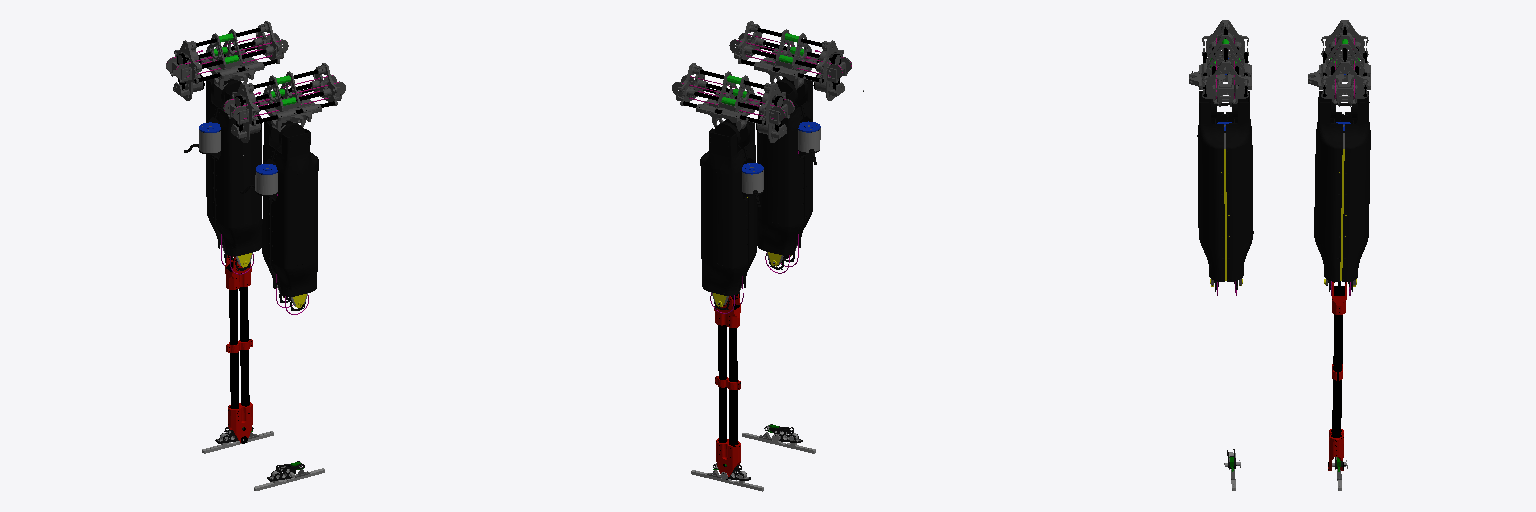
robot.urdf — mercury:
<?xml version="1.0" ?>
<robot name="mercury" xmlns:xacro="http://ros.org/wiki/xacro">
  <!-- ===== DUMMY 'BASE' LINK ==== -->
  <link name="body">
    <inertial>
       <mass value="8.0"/> 
      <!--<mass value="9.5"/>-->
      <!-- <origin xyz="0.00347 0.0 0.22524"/> -->
      <origin xyz="-0.02 0.0 0.22524"/>
      <inertia ixx="0.3006167" ixy="0" ixz="0" iyy="0.23837" iyz="0" izz="0.09690467"/>
    </inertial>
<!--      <visual>
      <geometry>
          <mesh filename="Updated_torso.3ds" scale="0.001 0.001 0.001"/>
      </geometry>
      <origin rpy="3.14159 0 1.5708" xyz="-.415 -0.21 -0.07"/>
    </visual> -->
    <visual>
      <geometry>
         <mesh filename="meshes/color_torso.dae" scale="0.001 0.001 0.001"/>
      </geometry>
      <origin rpy="3.14159 0 1.5708" xyz="-0.165 -0.21 -0.033"/>
    </visual>
  </link>
  <!-- IMU -->
  <joint name="fixed_imu" type="fixed">
    <axis xyz="0 1 0"/>
    <origin rpy="0 0 0" xyz="-0.02 -0.07 0.22"/>
    <parent link="body"/>
    <child link="imu" />
  </joint>
  <link name="imu">
    <inertial>
      <mass value="0.0000000000001"/>
      <origin xyz="0.0 0.0 0.0"/>
      <inertia ixx="0.0000000001" ixy="0" ixz="0.0" iyy="0.000000001" iyz="0" izz="0.00000000001"/>
    </inertial>
  </link>


  <!--!!!!!!!!!!!!!!!!!!!!!RIGHT LEG!!!!!!!!!!!!!!!!!!!!!!!!!!!!!!!!!!!!!!!!!!!!!!!!-->
  <joint name="1_torso_to_abduct_r_j" type="continuous">
    <axis xyz="1 0 0"/>
    <origin rpy="0 0 0" xyz="0.0 -0.1397 0.0"/>
    <parent link="body"/>
    <child link="abduct_r"/>
  </joint>
  <link name="abduct_r">
    <inertial>
      <mass value="2.1656"/>
      <origin xyz="-0.03416 -0.00075 0.04293"/>
      <inertia ixx="0.003735" ixy="0.0" ixz="0.0" iyy="0.01391" iyz="0.0" izz="0.01355"/>
    </inertial>
<!--      <visual>
      <geometry>
	      <mesh filename="abduction.3ds" scale="0.001 0.001 0.001"/>
      </geometry>
      <origin rpy="3.14159 0 1.5708" xyz="-0.167 -0.083 -0.043"/>
    </visual>  -->
    <visual>
      <geometry>
        <mesh filename="meshes/color_abduction_R.dae" scale="0.001 0.001 0.001"/>
      </geometry>
      <origin rpy="3.14159 0 1.5708" xyz="-0.181 -0.073 -0.023"/>
    </visual>
  </link>

  <joint name="abduct_r_to_thigh_r_j" type="continuous">
    <axis xyz="0 1 0"/>
    <!-- <origin rpy="0 0 0.0" xyz="0.0 0.0 -0.03535"/> -->
    <origin rpy="0.01 0.0 0.0" xyz="0.0 0.0 -0.03535"/>
    <parent link="abduct_r"/>
    <child link="thigh_r"/>
  </joint>
  <link name="thigh_r">
    <inertial>
      <!-- <mass value="3.682"/> -->
      <mass value="3.2"/>
      <origin xyz="-0.00396 0.000018 -0.175"/>
      <inertia ixx="0.038482" ixy="0" ixz="0.0" iyy="0.039835" iyz="-0.003" izz="0.0042934"/>
    </inertial>
<!--      <visual>
      <geometry>
        <mesh filename="Updated_thigh.3ds" scale="0.001 0.001 0.001"/>
      </geometry>
      <origin rpy="3.14159 0 1.5708" xyz="-0.106 -0.062 -0.495"/>
    </visual>  -->
    <visual>
      <geometry>
        <mesh filename="meshes/color_thigh_L.dae" scale="0.001 0.001 0.001"/>
      </geometry>
      <origin rpy="3.14159 0 1.5708" xyz="-0.106 -0.062 -0.49"/>
    </visual>
  </link>

  <joint name="thigh_r_to_knee_r_j" type="continuous">
    <axis xyz="0 1 0"/>
    <!--<origin rpy="0 0 -0.05974278" xyz="0.0181 0.0 -0.4575"/>-->
    <origin rpy="0.02 0 0.02" xyz="0.0181 0.005 -0.4575"/>
    <parent link="thigh_r"/>
    <child link="shank_r"/>
  </joint>
  <link name="shank_r">
    <inertial>
      <mass value="0.649"/>
      <origin xyz="0.0 0.0 -0.235"/>
      <inertia ixx="0.00338" ixy="0" ixz="0.0" iyy="0.00338" iyz="0" izz="0.000011"/>
    </inertial>
<!--      <visual>
      <geometry>
	      <mesh filename="Updated_shin.3ds" scale="0.001 0.001 0.001"/>
      </geometry>
      <origin rpy="3.14159 1.0756 0" xyz="-0.246 0.0565 -0.093"/>
    </visual>  -->
    <visual>
      <geometry>
        <mesh filename="meshes/color_shank_R.dae" scale="0.001 0.001 0.001"/>
      </geometry>
      <origin rpy="3.14159 1.075 0" xyz="-0.218 0.0565 -0.092"/>
    </visual>
  </link>

  <joint name="ankle_r" type="continuous">
    <axis xyz="0 1 0"/>
    <origin rpy="0 0 0" xyz="0.0 0.0 -0.47"/>
    <parent link="shank_r"/>
    <child link="rfoot" />
  </joint>
  <link name="rfoot">
    <inertial>
      <mass value="0.123"/>
      <origin xyz="0.0 0.0 0.0"/>
      <inertia ixx="0.00001" ixy="0" ixz="0.0" iyy="0.00001" iyz="0" izz="0.00001"/>
    </inertial>
<!--      <visual>
      <geometry>
	      <mesh filename="Updated_foot.3ds" scale="0.001 0.001 0.001"/>
      </geometry>
      <origin rpy="3.14159 1.3808 0" xyz="-0.184 0.0558 0.398"/>
    </visual>  -->
    <visual>
      <geometry>
        <mesh filename="meshes/color_foot_R.dae" scale="1 1 1"/>
      </geometry>
      <origin rpy="1.84159 1.3608 0.275" xyz="0.090 0.028 0.454"/>
    </visual>
    <collision>
      <geometry>
        <box size="0.2 0.01 0.01"/>
      </geometry>
      <origin rpy="0.0 0.0 0.0" xyz="0.0 0.0 -0.018"/>
    </collision>
  </link>

  <!--!!!!!!!!!!!!!!!!!!!!!left LEG!!!!!!!!!!!!!!!!!!!!!!!!!!!!!!!!!!!!!!!!!!!!!!!!-->
  <joint name="2_torso_to_abduct_l_j" type="continuous">
    <axis xyz="1 0 0"/>
    <origin rpy="0 0 0" xyz="0.0 0.1397 0.0"/>
    <parent link="body"/>
    <child link="abduct_l"/>
  </joint>
  <link name="abduct_l">
    <inertial>
      <mass value="2.1656"/>
      <origin xyz="-0.03416 0.00075 0.04293"/>
      <inertia ixx="0.003735" ixy="0.0" ixz="0.0" iyy="0.01391" iyz="0.0" izz="0.01355"/>
    </inertial>
    <!-- <visual>
      <geometry>
	      <mesh filename="abduction.3ds" scale="0.001 0.001 0.001"/>
      </geometry>
      <origin rpy="3.14159 0 1.5708" xyz="-0.167 -0.083 -0.043"/>
    </visual> -->
    <visual>
      <geometry>
        <mesh filename="meshes/color_abduction_L.dae" scale="0.001 0.001 0.001"/>
      </geometry>
      <!-- <origin rpy="1.5708 0 1.5708" xyz="0.0 0.0 -0.038"/> -->
      <origin rpy="3.14159 0 1.5708" xyz="-0.181 -0.073 -0.023"/>
    </visual>
  </link>

  <joint name="abduct_l_to_thigh_l_j" type="continuous">
    <axis xyz="0 1 0"/>
    <origin rpy="-0.017 0 0.01" xyz="0.0 0.0 -0.03535"/>
    <!--TEST-->
    <!--<origin rpy="-0.037 0 0.04" xyz="0.0 0.0 -0.03535"/>-->
    <parent link="abduct_l"/>
    <child link="thigh_l"/>
  </joint>
  <link name="thigh_l">
    <inertial>
      <!-- <mass value="3.682"/> -->
      <mass value="3.2"/>
      <!-- <origin xyz="-0.00396 -0.000018 -0.24"/> -->
      <origin xyz="-0.00396 -0.000018 -0.175"/>
      <inertia ixx="0.038482" ixy="0" ixz="0.0" iyy="0.039835" iyz="0" izz="0.0042934"/>
    </inertial>
    <!-- <visual>
      <geometry>
	      <mesh filename="Updated_thigh.3ds" scale="0.001 0.001 0.001"/>
      </geometry>
      <origin rpy="3.14159 0 1.5708" xyz="-0.106 -0.062 -0.495"/>
    </visual>  -->
    <visual>
      <geometry>
        <mesh filename="meshes/color_thigh_L.dae" scale="0.001 0.001 0.001"/>
      </geometry>
      <origin rpy="3.14159 0 1.5708" xyz="-0.106 -0.062 -0.49"/>
    </visual>
  </link>

  <joint name="thigh_l_to_knee_l_j" type="continuous">
    <axis xyz="0 1 0"/>
    <!--<origin rpy="0 0 -0.00472424" xyz="0.0181 0.0 -0.4575"/>-->
    <origin rpy=" 0.0 0 0.00" xyz="0.0181 -0.005 -0.4575"/>
    <parent link="thigh_l"/>
    <child link="shank_l"/>
    <!--    <dynamics damping="1.0"/>-->
  </joint>
  <link name="shank_l">
    <inertial>
      <mass value="0.649"/>
      <origin xyz="0.0 0.0 -0.235"/>
      <inertia ixx="0.00338" ixy="0" ixz="0.0" iyy="0.00338" iyz="0" izz="0.000011"/>
    </inertial>
    <!-- <visual>
      <geometry>
	      <mesh filename="Updated_shin.3ds" scale="0.001 0.001 0.001"/>
      </geometry>
      <origin rpy="3.14159 1.0756 0" xyz="-0.246 0.0565 -0.093"/>
    </visual> --> 
    <visual>
      <geometry>
        <mesh filename="meshes/color_shank_L.dae" scale="0.001 0.001 0.001"/>
      </geometry>
      <!-- <origin rpy="1.5708 1.075 0" xyz="-0.043 0.0565 -0.015"/> -->
      <origin rpy="3.14159 1.075 0" xyz="-0.218 0.0605 -0.092"/>
    </visual>
  </link>

  <joint name="ankle_l" type="continuous">
    <axis xyz="0 1 0"/>
    <origin rpy="0 0 0" xyz="0.0 -0.008 -0.47"/>
    <parent link="shank_l"/>
    <child link="lfoot" />
  </joint>
  <link name="lfoot">
    <inertial>
      <mass value="0.123"/>
      <origin xyz="0.0 0.0 0.0"/>
      <inertia ixx="0.00001" ixy="0" ixz="0.0" iyy="0.00001" iyz="0" izz="0.00001"/>
    </inertial>
<!--     <visual>
      <geometry>
	      <mesh filename="Updated_foot.3ds" scale="0.001 0.001 0.001"/>
      </geometry>
      <origin rpy="3.14159 1.3808 0" xyz="-0.184 0.0558 0.398"/>
    </visual>  -->
    <visual>
      <geometry>
        <mesh filename="meshes/color_foot_L.dae" scale="1 1 1"/>
      </geometry>
      <!-- <origin rpy="1.5708 1.38 0" xyz="0.095 0.0698 0.450"/> -->
      <origin rpy="1.84159 1.3608 0.275" xyz="0.090 0.0508 0.454"/>
    </visual>
    <collision>
      <geometry>
        <box size="0.2 0.01 0.01"/>
      </geometry>
      <origin rpy="0.0 0.0 0.0" xyz="0.0 0.0 -0.018"/>
    </collision>
  </link>

  <!--!!!!!!!!!!!!!!!!!!!!! LED !!!!!!!!!!!!!!!!!!!!!!!!!!!!!!!!!!-->
  <!-- LED_Body 0: attached on the body front -->
  <joint name="fixed_bodyled0" type="fixed">
    <axis xyz="0 1 0"/>
    <origin rpy="0 0 0" xyz="0.077 0.0 0.0"/>
    <parent link="body"/>
    <child link="body_led0" />
  </joint>
  <link name="body_led0">
    <inertial>
      <mass value="0.000000000001"/>
      <origin xyz="0.0 0.0 0.0"/>
      <inertia ixx="0.000000001" ixy="0" ixz="0.0" iyy="0.00000000338" iyz="0" izz="0.000000000011"/>
    </inertial>
  </link>

    <!-- LED_Body 1: attached on the body front -->
  <joint name="fixed_bodyled1" type="fixed">
    <axis xyz="0 1 0"/>
    <origin rpy="0 0 0" xyz="0.077 0.142 0.3"/>
    <parent link="body"/>
    <child link="body_led1" />
  </joint>
  <link name="body_led1">
    <inertial>
      <mass value="0.000000000001"/>
      <origin xyz="0.0 0.0 0.0"/>
      <inertia ixx="0.000000001" ixy="0" ixz="0.0" iyy="0.00000000338" iyz="0" izz="0.000000000011"/>
    </inertial>
  </link>

  <!-- LED_Body 2: attached on the body front -->
  <joint name="fixed_bodyled2" type="fixed">
    <axis xyz="0 1 0"/>
    <origin rpy="0 0 0" xyz="0.077 -0.142 0.3"/>
    <parent link="body"/>
    <child link="body_led2" />
  </joint>
  <link name="body_led2">
    <inertial>
      <mass value="0.000000000001"/>
      <origin xyz="0.0 0.0 0.0"/>
      <inertia ixx="0.000000001" ixy="0" ixz="0.0" iyy="0.00000000338" iyz="0" izz="0.000000000011"/>
    </inertial>
  </link>

  <!-- LED_Right 0: On the Right thigh upper -->
  <joint name="fixed_led1" type="fixed">
    <axis xyz="0 1 0"/>
    <origin rpy="0 0 0" xyz="0.075 0.0 -0.093"/>
    <parent link="thigh_r"/>
    <child link="rleg_led0" />
  </joint>
  <link name="rleg_led0">
    <inertial>
      <mass value="0.000000000001"/>
      <origin xyz="0.0 0.0 0.0"/>
      <inertia ixx="0.000000001" ixy="0" ixz="0.0" iyy="0.00000000338" iyz="0" izz="0.000000000011"/>
    </inertial>
  </link>

  <!-- LED_Right 1: On the Right thigh lower -->
  <joint name="fixed_led2" type="fixed">
    <axis xyz="0 1 0"/>
    <origin rpy="0 0 0" xyz="0.075 0.0 -0.42"/>
    <parent link="thigh_r"/>
    <child link="rleg_led1" />
  </joint>
  <link name="rleg_led1">
    <inertial>
      <mass value="0.000000000001"/>
      <origin xyz="0.0 0.0 0.0"/>
      <inertia ixx="0.000000001" ixy="0" ixz="0.0" iyy="0.000000001" iyz="0" izz="0.000000000011"/>
    </inertial>
  </link>

  <!-- LED_Right 2: On the Right Shank upper -->
  <joint name="fixed_led3" type="fixed">
    <axis xyz="0 1 0"/>
    <origin rpy="0 0 0" xyz="0.035 -0.0 -0.050"/>
    <parent link="shank_r"/>
    <child link="rleg_led2" />
  </joint>
  <link name="rleg_led2">
    <inertial>
      <mass value="0.000000000001"/>
      <origin xyz="0.0 0.0 0.0"/>
      <inertia ixx="0.000000001" ixy="0" ixz="0.0" iyy="0.00000000338" iyz="0" izz="0.000000000011"/>
    </inertial>
  </link>

  <!-- LED_Right 3: On the Right Shank lower (foot - outside) -->
  <joint name="fixed_led4" type="fixed">
    <axis xyz="0 1 0"/>
    <origin rpy="0 0 0" xyz="0.0 -0.025 -0.47"/>
    <parent link="shank_r"/>
    <child link="rleg_led3" />
  </joint>
  <link name="rleg_led3">
    <inertial>
      <mass value="0.000000000001"/>
      <origin xyz="0.0 0.0 0.0"/>
      <inertia ixx="0.000000001" ixy="0" ixz="0.0" iyy="0.00000000338" iyz="0" izz="0.000000000011"/>
    </inertial>
  </link>
  
  <!-- LED_Right 4: On the Right Shank lower (foot - inside) -->
  <joint name="fixed_led5" type="fixed">
    <axis xyz="0 1 0"/>
    <origin rpy="0 0 0" xyz="0.0 0.025 -0.47"/>
    <parent link="shank_r"/>
    <child link="rleg_led4" />
  </joint>
  <link name="rleg_led4">
    <inertial>
      <mass value="0.000000000001"/>
      <origin xyz="0.0 0.0 0.0"/>
      <inertia ixx="0.000000001" ixy="0" ixz="0.0" iyy="0.00000000338" iyz="0" izz="0.000000000011"/>
    </inertial>
  </link>

  <!-- LED_Left 0: On the Left thigh upper -->
  <joint name="fixed_led6" type="fixed">
    <axis xyz="0 1 0"/>
    <origin rpy="0 0 0" xyz="0.075 0.0 -0.098"/>
    <parent link="thigh_l"/>
    <child link="lleg_led0" />
  </joint>
  <link name="lleg_led0">
    <inertial>
      <mass value="0.000000000001"/>
      <origin xyz="0.0 0.0 0.0"/>
      <inertia ixx="0.000000001" ixy="0" ixz="0.0" iyy="0.00000000338" iyz="0" izz="0.000000000011"/>
    </inertial>
  </link>

  <!-- LED_Left 1: On the Left thigh lower -->
  <joint name="fixed_led7" type="fixed">
    <axis xyz="0 1 0"/>
    <origin rpy="0 0 0" xyz="0.075 0.0 -0.42"/>
    <parent link="thigh_l"/>
    <child link="lleg_led1" />
  </joint>
  <link name="lleg_led1">
    <inertial>
      <mass value="0.000000000001"/>
      <origin xyz="0.0 0.0 0.0"/>
      <inertia ixx="0.000000001" ixy="0" ixz="0.0" iyy="0.000000001" iyz="0" izz="0.000000000011"/>
    </inertial>
  </link>

  <!-- LED_Left 2: On the Left Shank upper -->
  <joint name="fixed_led8" type="fixed">
    <axis xyz="0 1 0"/>
    <origin rpy="0 0 0" xyz="0.04 0.0 -0.045"/>
    <parent link="shank_l"/>
    <child link="lleg_led2" />
  </joint>
  <link name="lleg_led2">
    <inertial>
      <mass value="0.000000000001"/>
      <origin xyz="0.0 0.0 0.0"/>
      <inertia ixx="0.000000001" ixy="0" ixz="0.0" iyy="0.00000000338" iyz="0" izz="0.000000000011"/>
    </inertial>
  </link>

  <!-- LED_Left 3: On the Left Shank lower -->
  <joint name="fixed_led9" type="fixed">
    <axis xyz="0 1 0"/>
    <origin rpy="0 0 0" xyz="0.0 0.017 -0.47"/> <!-- -0.0165 m in for y direction -->
    <parent link="shank_l"/>
    <child link="lleg_led3" />
  </joint>
  <link name="lleg_led3">
    <inertial>
      <mass value="0.000000000001"/>
      <origin xyz="0.0 0.0 0.0"/>
      <inertia ixx="0.000000001" ixy="0" ixz="0.0" iyy="0.00000000338" iyz="0" izz="0.000000000011"/>
    </inertial>
  </link>

  <!-- LED_Left 4: On the Left Shank lower (inside) -->
  <joint name="fixed_led10" type="fixed">
    <axis xyz="0 1 0"/>
    <origin rpy="0 0 0" xyz="0.0 -0.033 -0.47"/> <!-- -0.0165 m in for y direction -->
    <parent link="shank_l"/>
    <child link="lleg_led4" />
  </joint>
  <link name="lleg_led4">
    <inertial>
      <mass value="0.000000000001"/>
      <origin xyz="0.0 0.0 0.0"/>
      <inertia ixx="0.000000001" ixy="0" ixz="0.0" iyy="0.00000000338" iyz="0" izz="0.000000000011"/>
    </inertial>
  </link>
</robot>

--- Render facts (derived) ---
3 views of the same robot in one strip: view 1: azimuth 30°, elevation 25°; view 2: azimuth 150°, elevation 25°; view 3: azimuth 270°, elevation 25° (orthographic).
Robot: mercury — 23 links, 22 joints (8 continuous, 14 fixed); root link body; default pose: every joint at zero.
Links seen in each view (by area): view 1: thigh_r, thigh_l, abduct_r, abduct_l, shank_l, rfoot, lfoot; view 2: thigh_l, thigh_r, abduct_l, abduct_r, shank_l, rfoot, lfoot; view 3: thigh_l, thigh_r, abduct_r, abduct_l, shank_l.
Boxes of the visible links, x1,y1,x2,y2 form: thigh_r: [240, 121, 318, 314]; thigh_l: [184, 79, 261, 274]; abduct_r: [223, 63, 345, 142]; abduct_l: [166, 21, 288, 100]; shank_l: [225, 255, 252, 443]; rfoot: [254, 461, 324, 490]; lfoot: [202, 427, 273, 453]; thigh_l: [700, 119, 763, 313]; thigh_r: [757, 77, 820, 273]; abduct_l: [672, 63, 794, 142]; abduct_r: [729, 21, 851, 100]; shank_l: [714, 294, 740, 479]; rfoot: [742, 424, 815, 453]; lfoot: [691, 463, 763, 491]; thigh_l: [1314, 91, 1370, 295]; thigh_r: [1197, 91, 1253, 295]; abduct_r: [1189, 20, 1251, 106]; abduct_l: [1308, 20, 1370, 106]; shank_l: [1328, 281, 1346, 470].
Bounding box of the posed robot: 0.3187 × 0.4274 × 1.11 m (x, y, z).
Meshes: 8 distinct files referenced, 8 mesh visuals loaded (7 Collada DAE); not drawn: 1 (reference not matched to a file when rendering).
